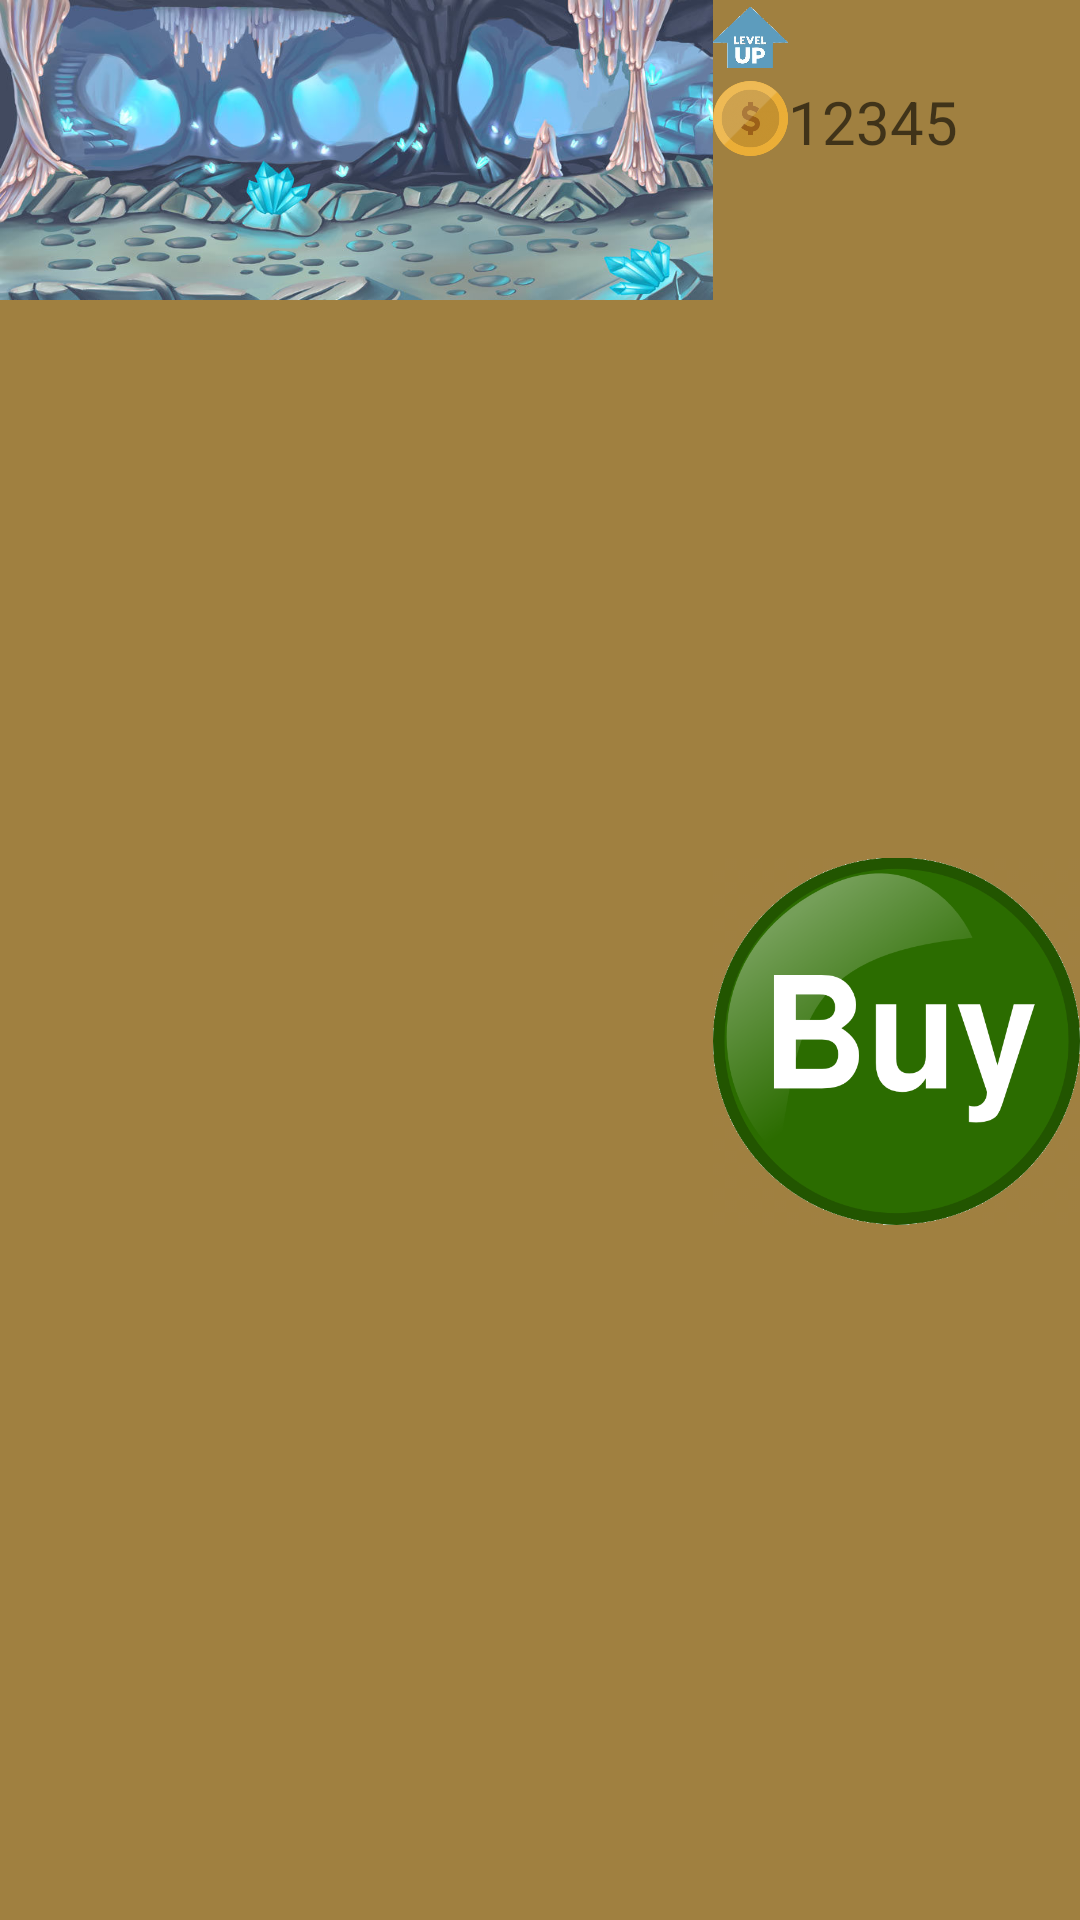

Icons on this 1080px×1920px Android screen, each with its box as (x1, y1, x2, y2):
coin: (713, 81, 788, 156)
